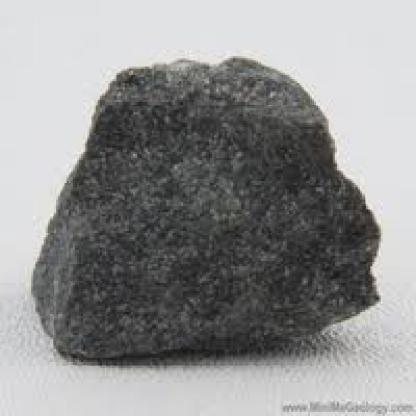Metamorphic_Marble: (25, 41, 383, 376)
